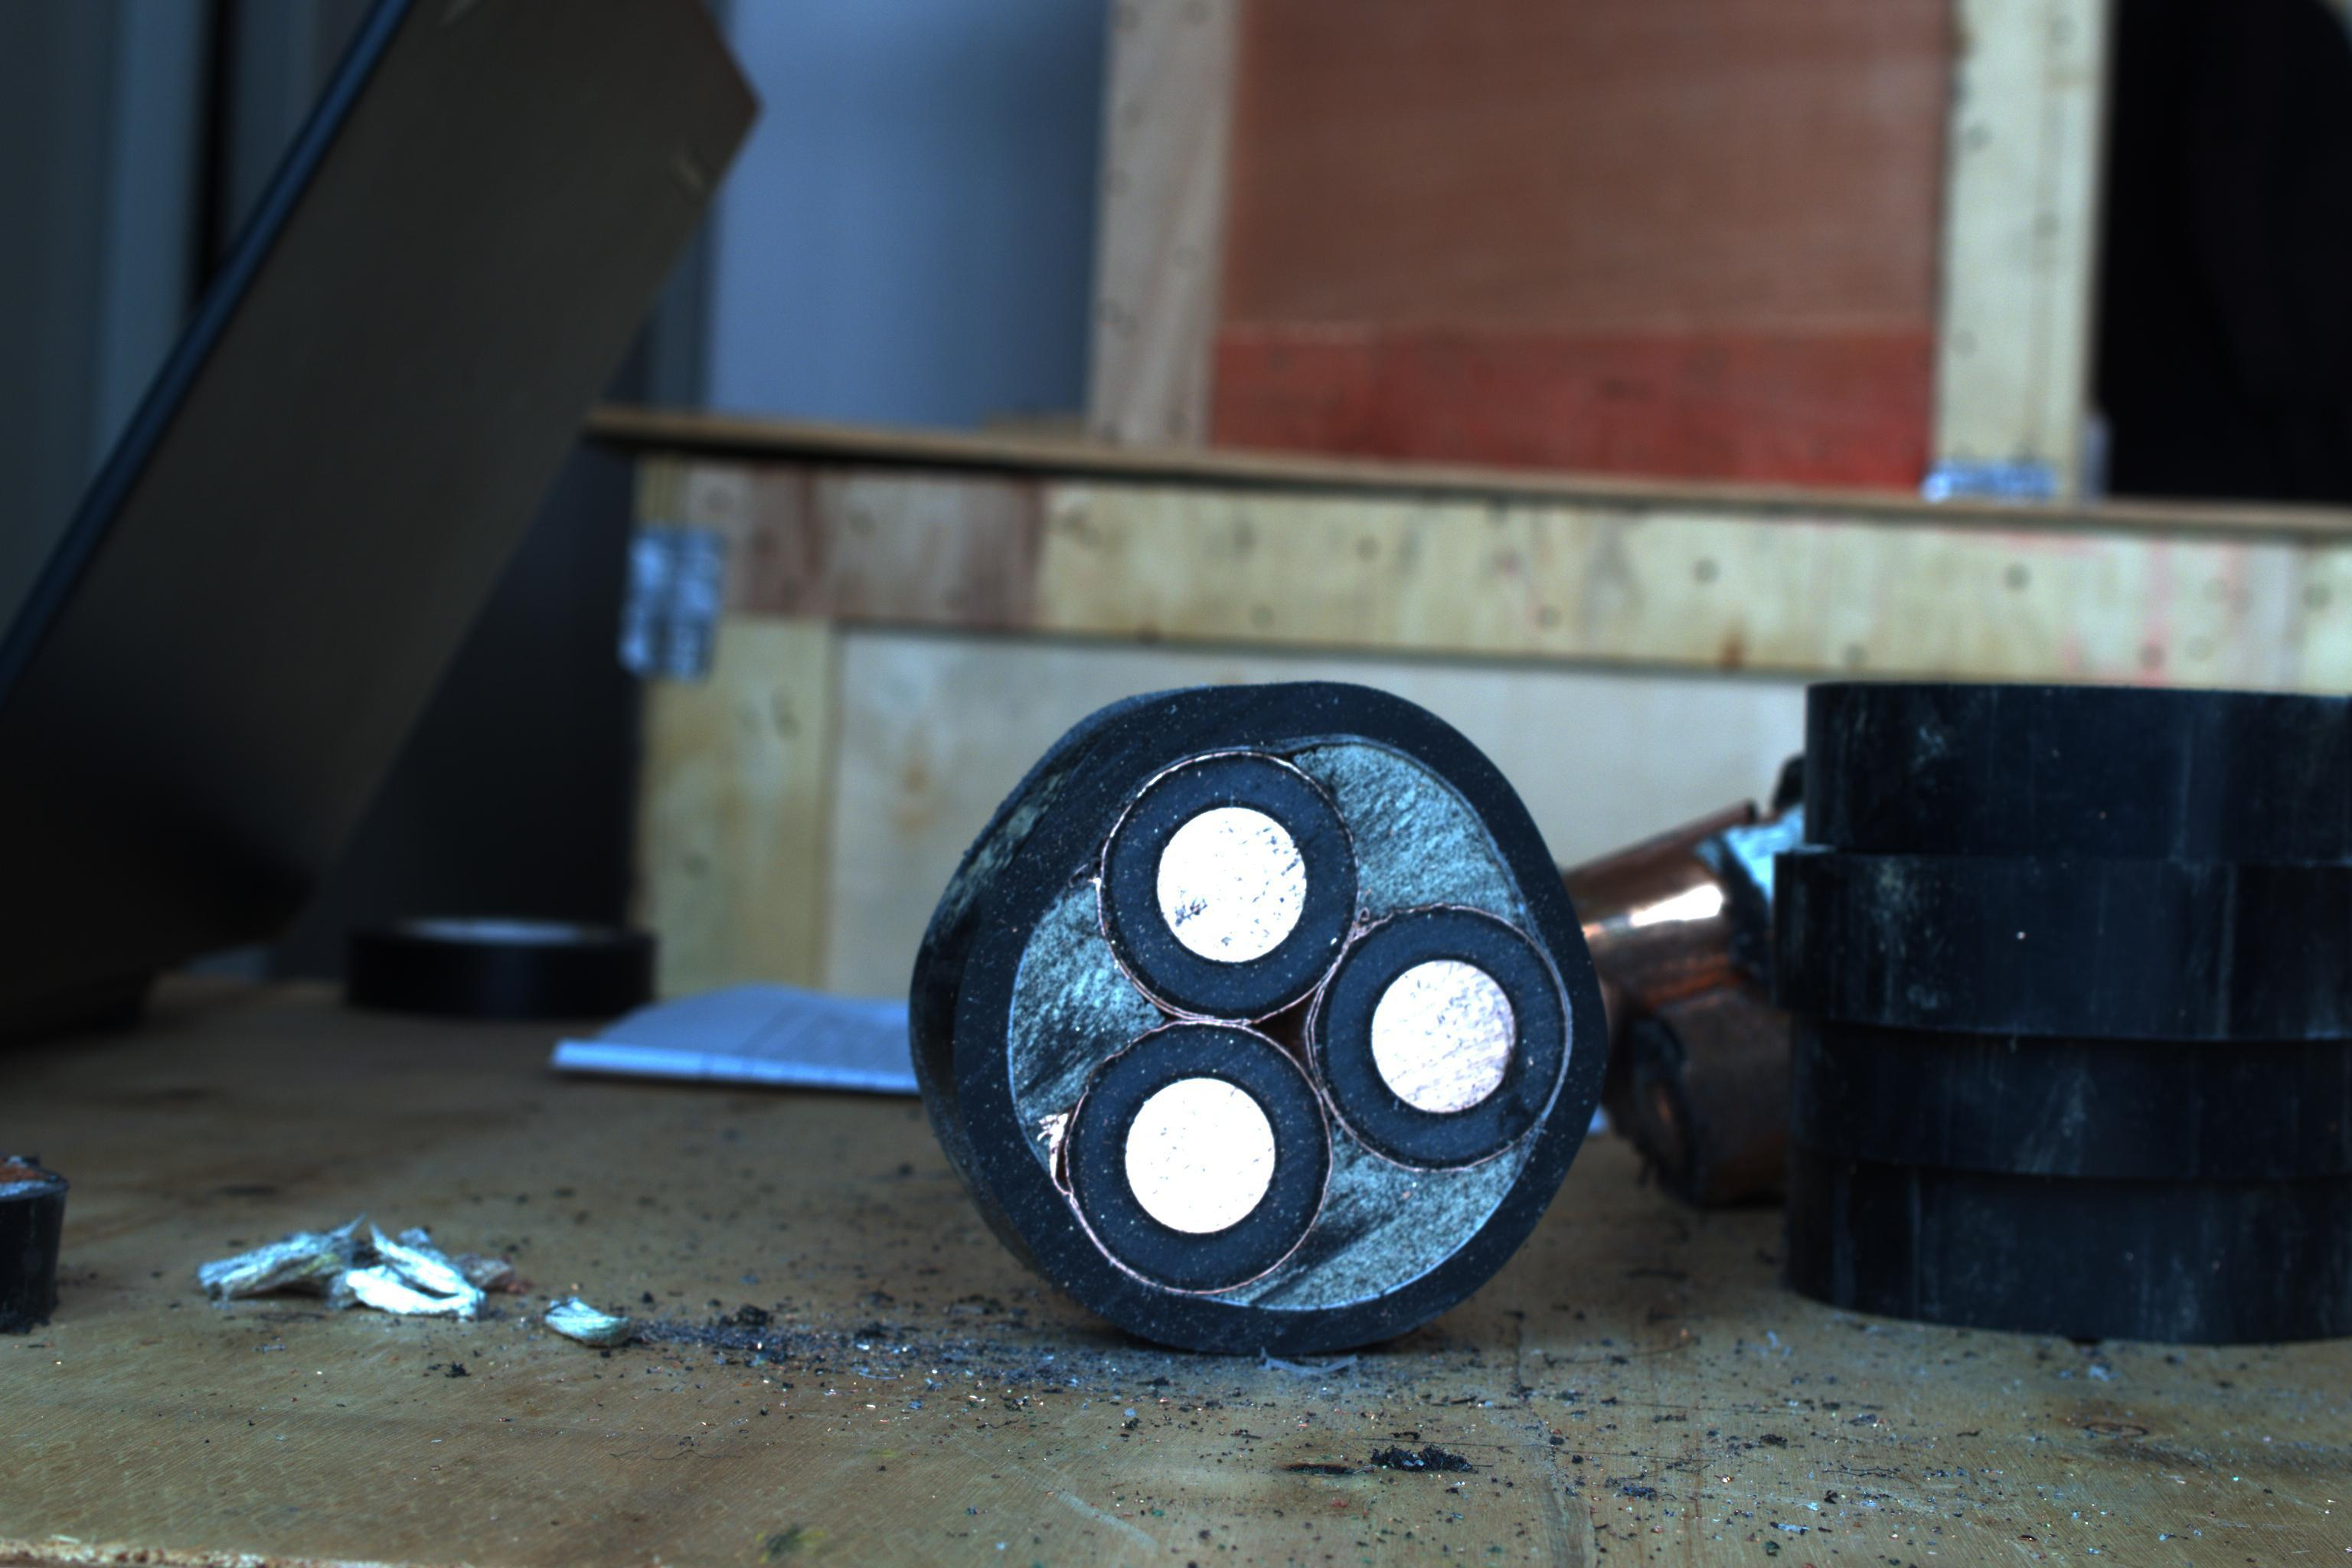ZA_YJV_8.7_10kV_3x240: (943, 693, 1624, 1351)
